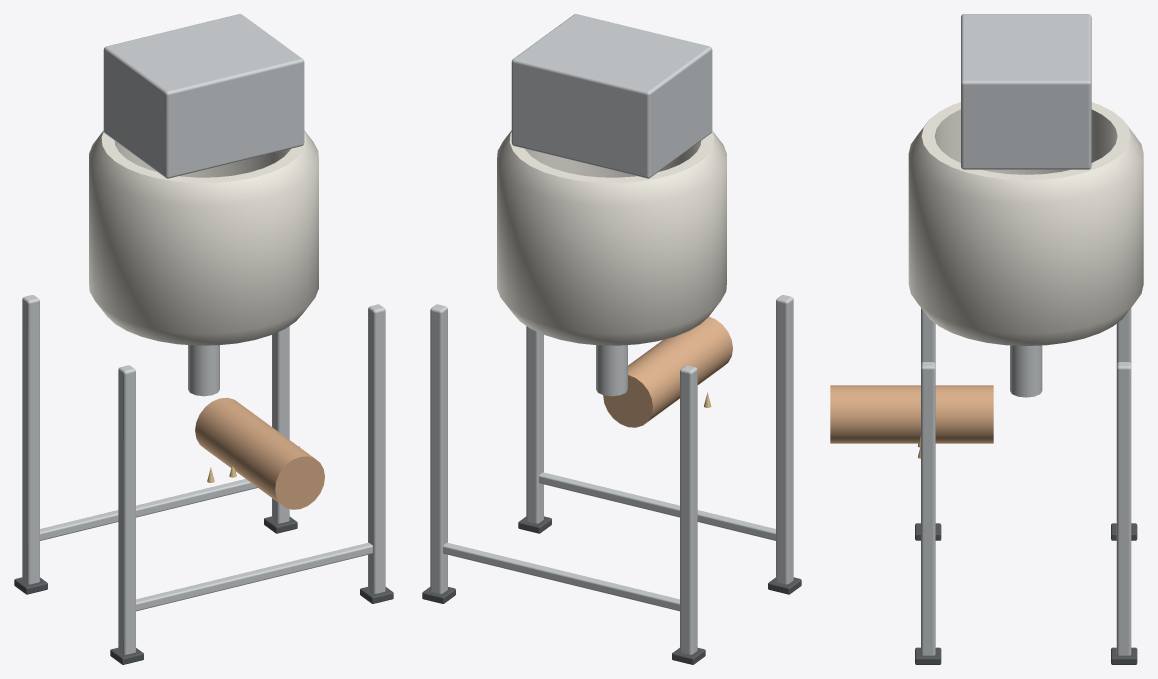
The model's file is chocolate-making-and-confectionery-chocolate-depositor-82891efd__39150.glb.
The picture shows the model from 3 angles, left to right: view 1: azimuth 30°, elevation 25°; view 2: azimuth 150°, elevation 25°; view 3: azimuth 270°, elevation 25°; orthographic projection.
Visible parts, largest first — view 1: chocolate-depositor; view 2: chocolate-depositor; view 3: chocolate-depositor.
Boxes of the visible parts, x1,y1,x2,y2 form: chocolate-depositor: (14, 14, 393, 664); chocolate-depositor: (422, 14, 801, 664); chocolate-depositor: (830, 14, 1143, 664).
Size of the model in its own units: 0.98 by 1.86 by 0.96.
